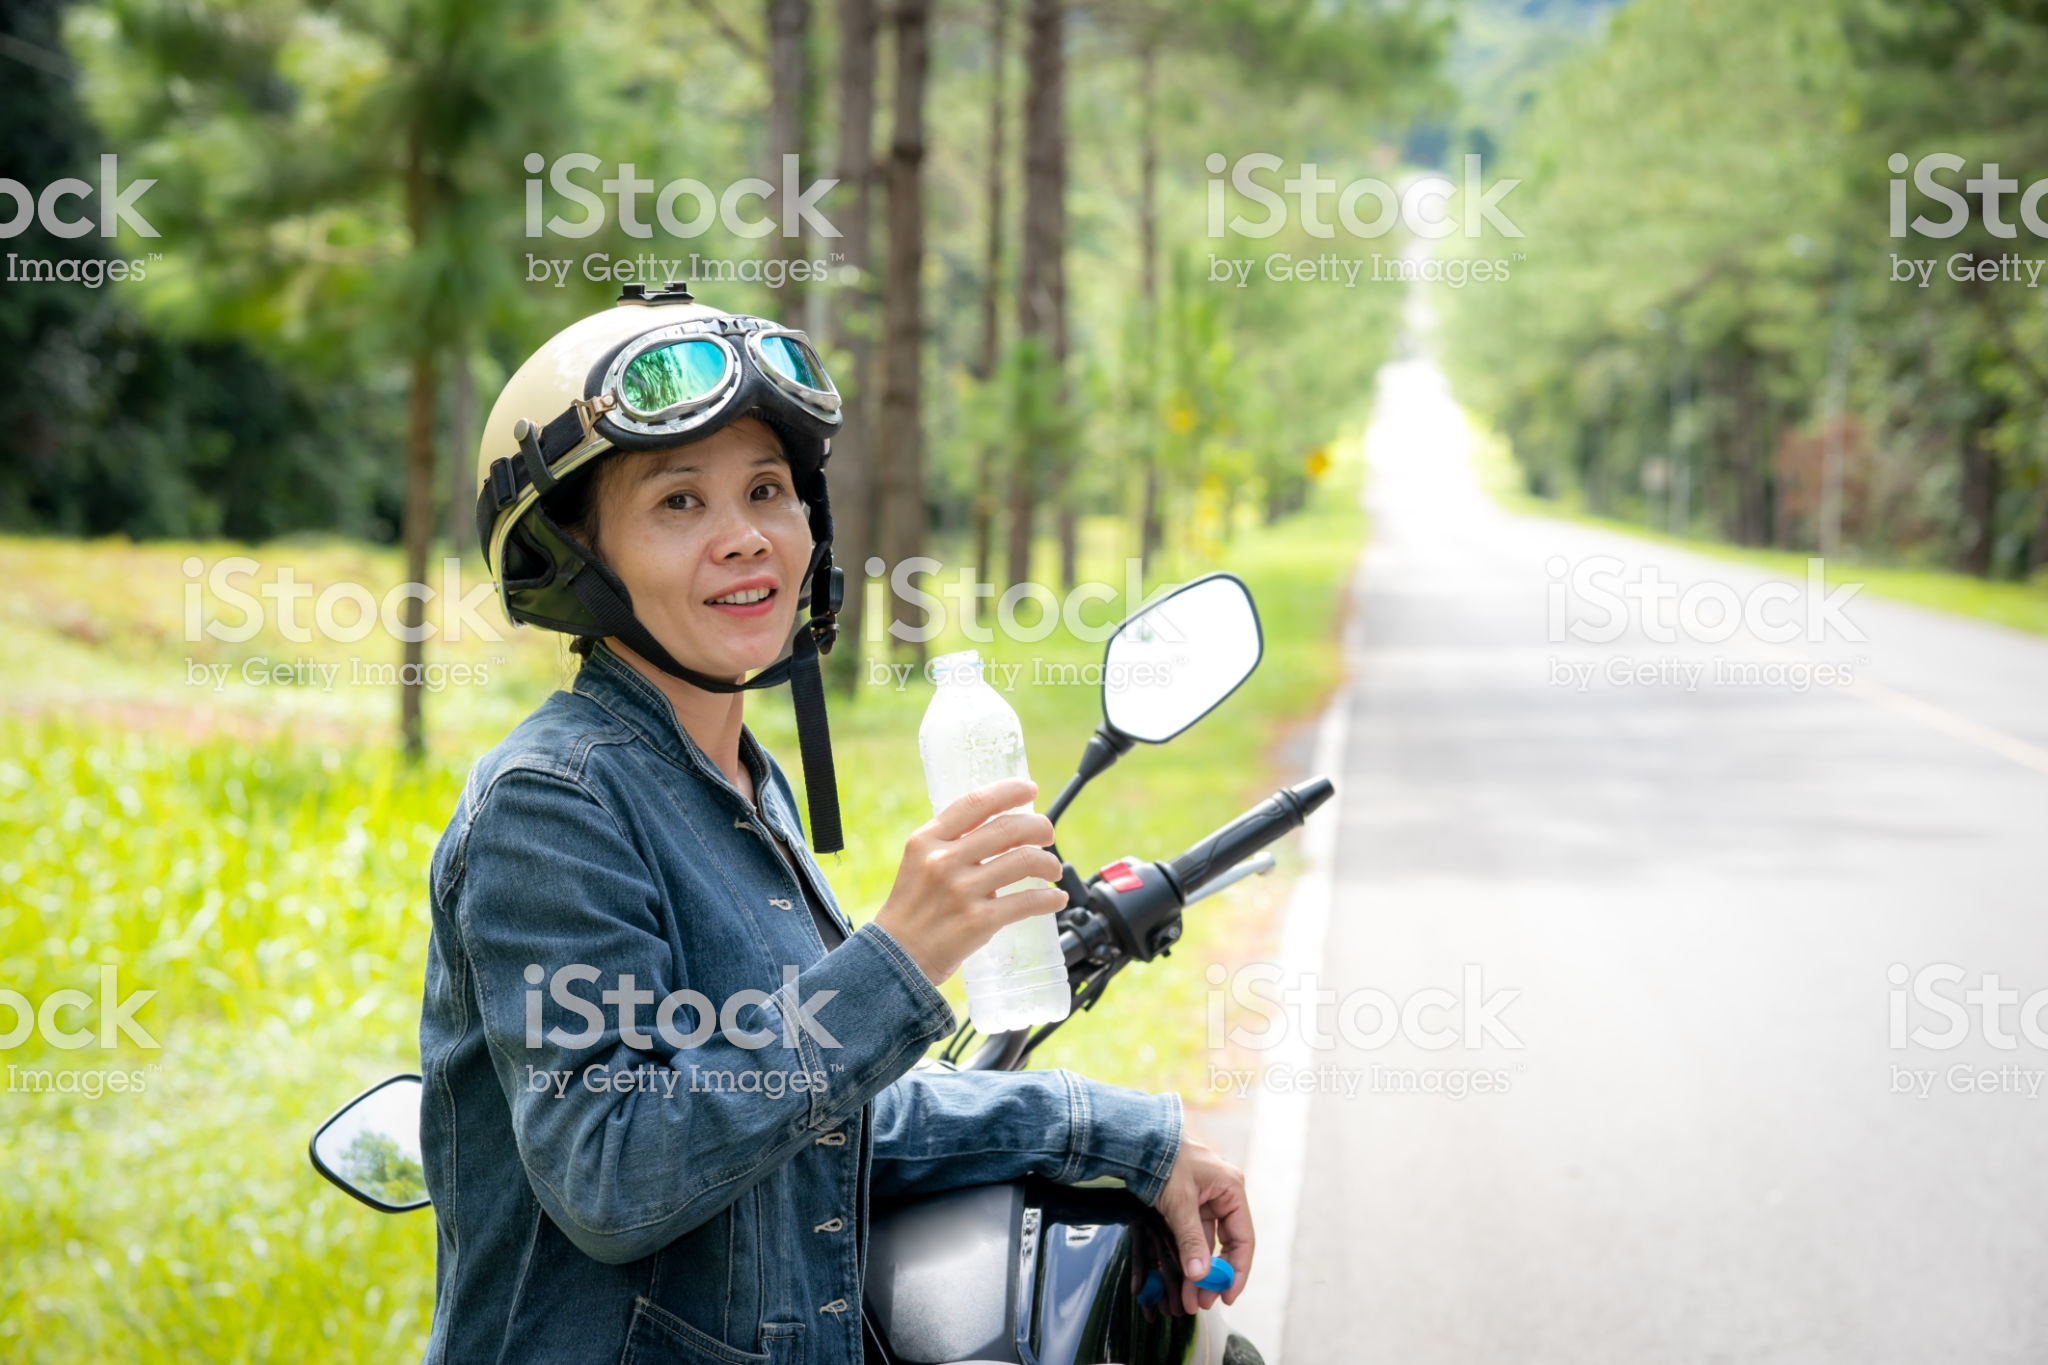helmet: (396, 271, 869, 478)
